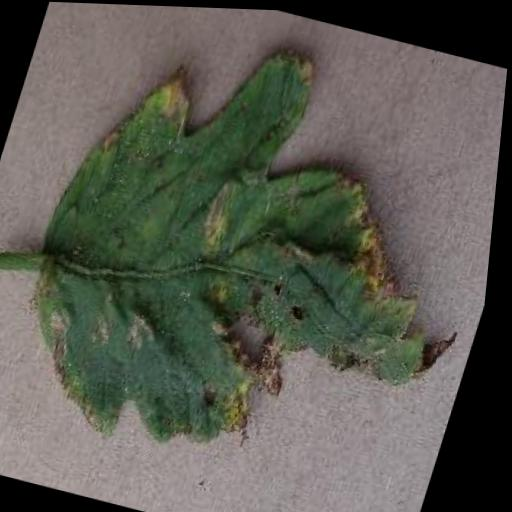Bacterial Spot: (0, 1, 512, 512)
